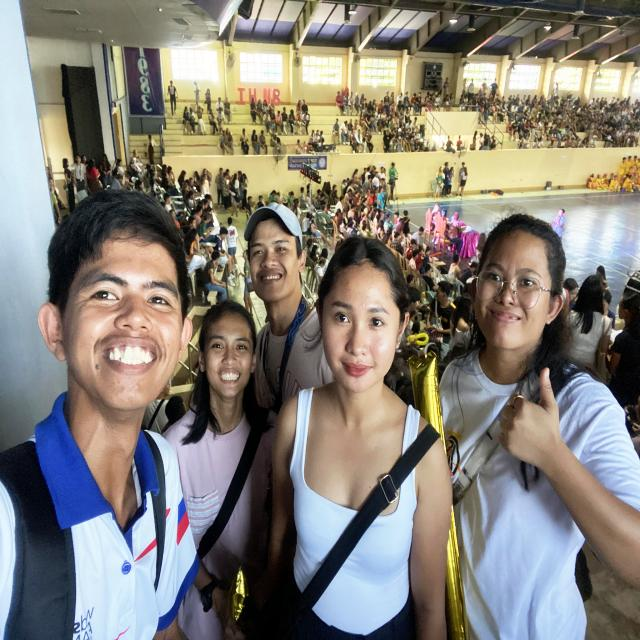thumbs_up: (495, 365, 564, 468)
